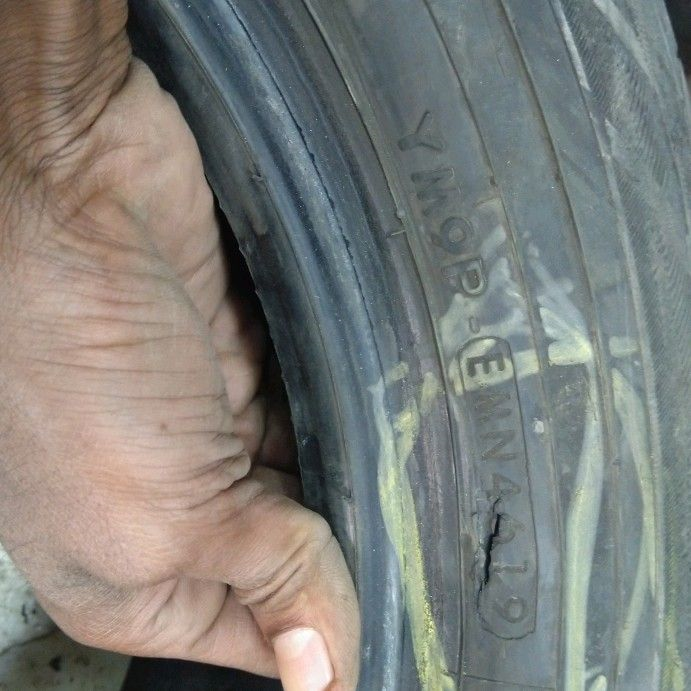cut: (481, 486, 509, 602)
